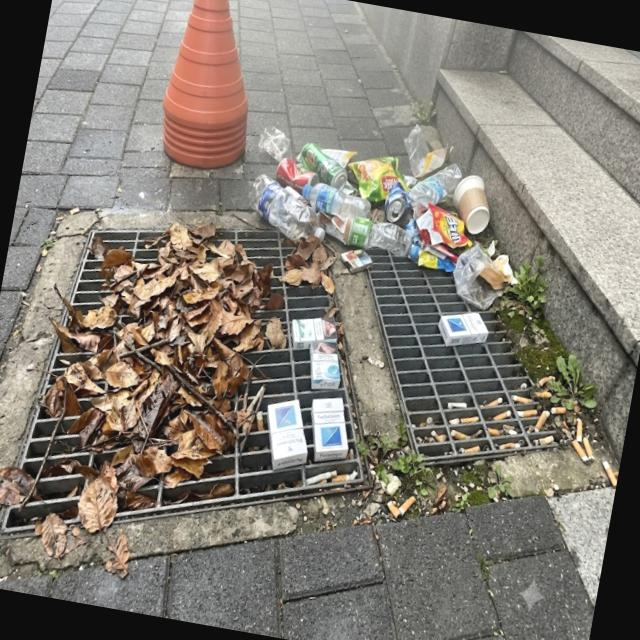drain_area: (368, 247, 527, 413), (243, 349, 345, 458), (4, 472, 84, 528), (217, 233, 293, 276), (256, 283, 329, 319), (20, 407, 57, 478), (71, 251, 110, 316), (99, 231, 161, 265)
drain_full: (0, 231, 364, 530), (361, 220, 591, 465)
